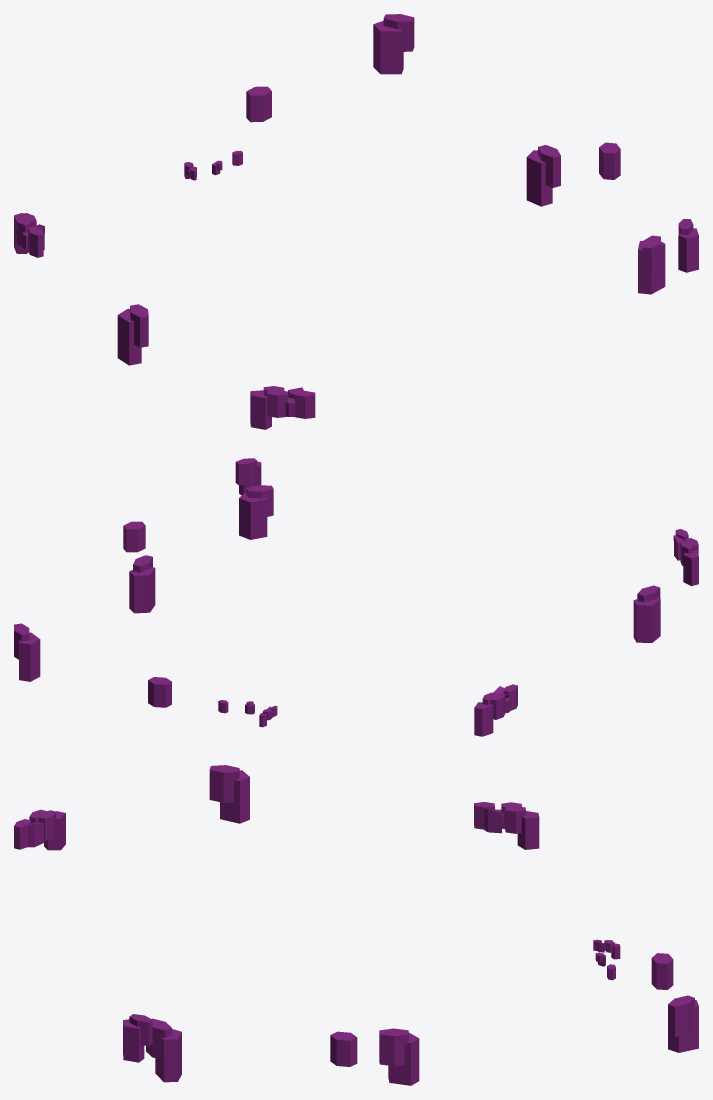
Rendered from Rock.fbx.
The picture shows the model from 3 angles, top to bottom: view 1: azimuth 30°, elevation 25°; view 2: azimuth 150°, elevation 25°; view 3: azimuth 270°, elevation 25°; orthographic projection. The views are drawn at different scales.
Parts seen in each view (by area): view 1: Rock2, Rock (2), Rock (1), Rock, Rock (3), Rock2 (1), Rock (4), Rock4, Rock4 (1); view 2: Rock (3), Rock, Rock2 (1), Rock (1), Rock (2), Rock2, Rock (4), Rock4, Rock4 (1); view 3: Rock2 (1), Rock (1), Rock, Rock2, Rock (3), Rock (2), Rock (4), Rock4 (1), Rock4.
Boxes of the visible parts, x1,y1,x2,y2 form: Rock2: (250, 386, 315, 429); Rock (2): (373, 14, 414, 74); Rock (1): (526, 145, 560, 206); Rock: (117, 304, 148, 365); Rock (3): (638, 235, 665, 294); Rock2 (1): (14, 213, 44, 257); Rock (4): (678, 219, 698, 272); Rock4: (246, 86, 271, 122); Rock4 (1): (599, 142, 620, 179); Rock (3): (239, 485, 273, 539); Rock: (633, 585, 660, 642); Rock2 (1): (474, 684, 517, 736); Rock (1): (129, 555, 155, 613); Rock (2): (14, 623, 40, 681); Rock2: (673, 529, 698, 585); Rock (4): (235, 458, 261, 495); Rock4: (148, 677, 171, 707); Rock4 (1): (123, 521, 145, 552); Rock2 (1): (474, 802, 539, 849); Rock (1): (379, 1028, 419, 1085); Rock: (209, 765, 249, 823); Rock2: (14, 809, 65, 850); Rock (3): (146, 1018, 181, 1082); Rock (2): (668, 995, 698, 1052); Rock (4): (123, 1014, 152, 1062); Rock4 (1): (330, 1031, 357, 1066); Rock4: (651, 953, 673, 989).
Size of the model in its own units: 96.83 by 13.26 by 105.
